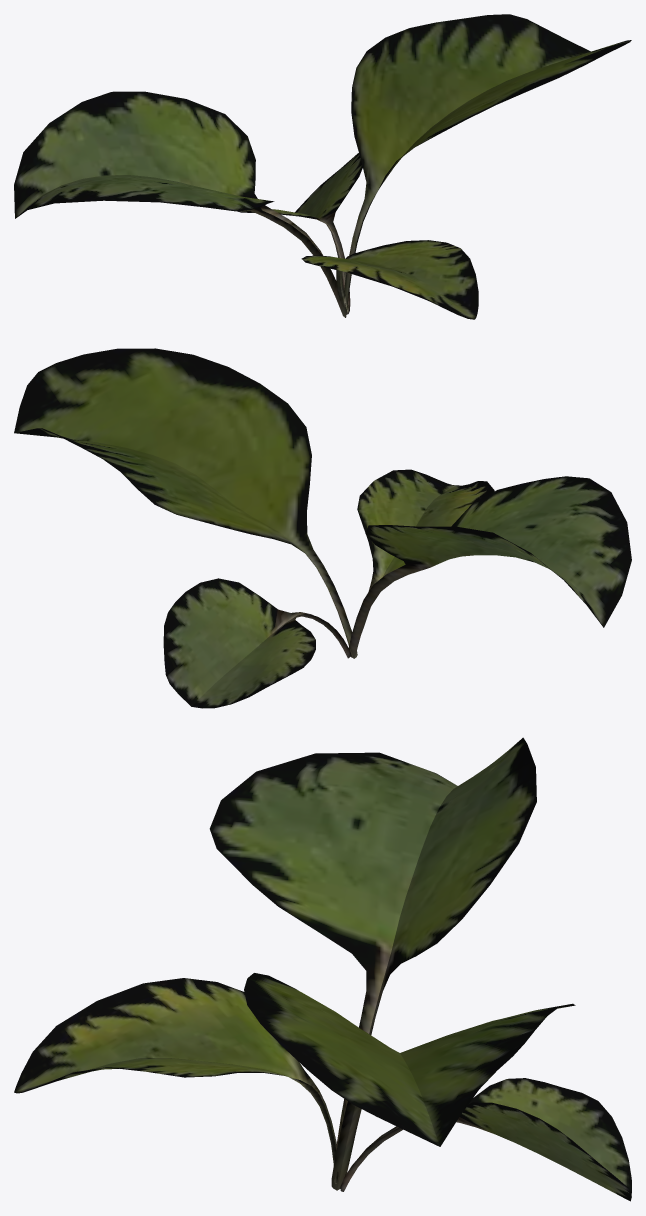
Rendered from nettle_plant.glb.
The picture shows the model from 3 angles, top to bottom: view 1: azimuth 30°, elevation 25°; view 2: azimuth 150°, elevation 25°; view 3: azimuth 270°, elevation 25°; orthographic projection. The views are drawn at different scales.
Parts seen in each view (by area): view 1: nettle_plant_small_b_LOD0; view 2: nettle_plant_small_b_LOD0; view 3: nettle_plant_small_b_LOD0.
Boxes of the visible parts, left/top/right/bottom form: nettle_plant_small_b_LOD0: left=14, top=14, right=631, bottom=319; nettle_plant_small_b_LOD0: left=14, top=348, right=631, bottom=708; nettle_plant_small_b_LOD0: left=14, top=737, right=631, bottom=1201.
Size of the model in its own units: 0.0597 by 0.0217 by 0.0385.
Materials: 1 (1 with a texture image).
